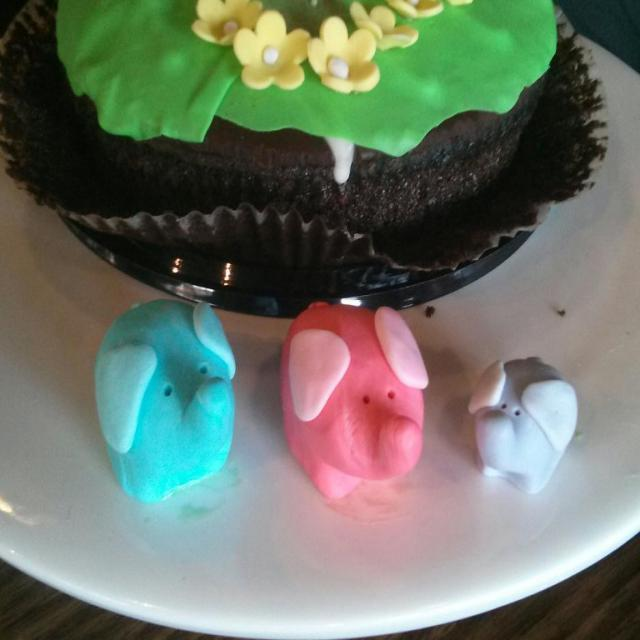Muffin: (19, 0, 629, 309)
